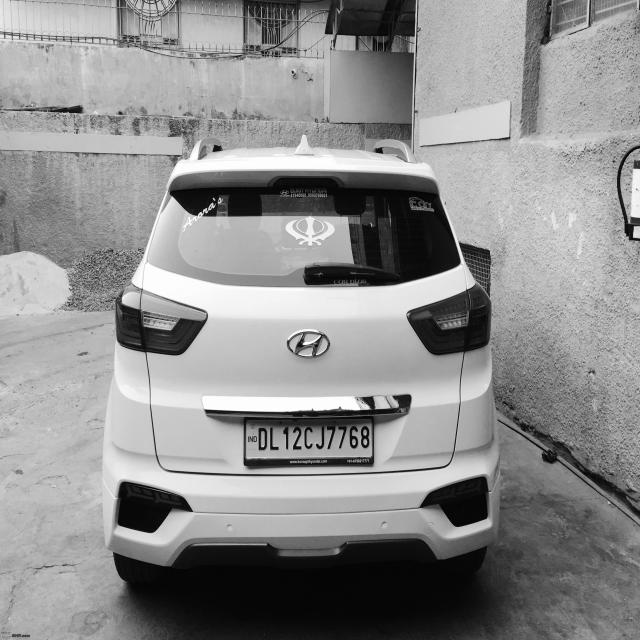car: (100, 133, 516, 633)
license-plate: (244, 409, 374, 474)
